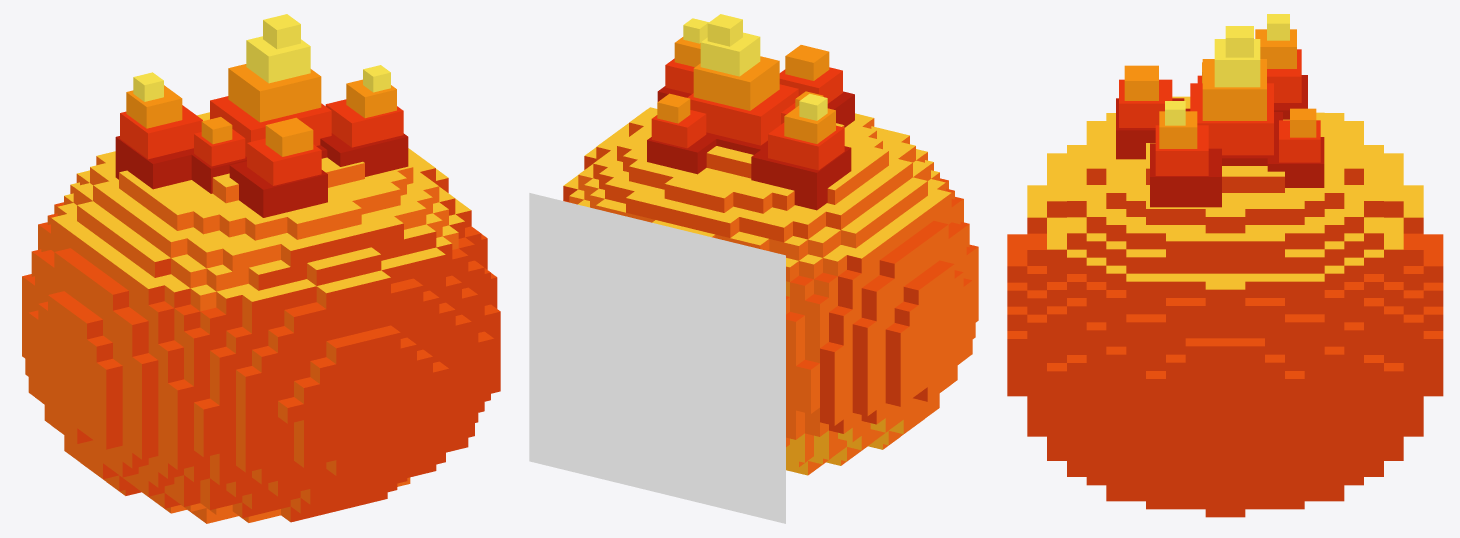
File: slime_pyro_large.glb
3 renders of one model, left to right at view 1: azimuth 30°, elevation 25°; view 2: azimuth 150°, elevation 25°; view 3: azimuth 270°, elevation 25°, orthographic. The views are drawn at different scales.
Visible parts, largest first — view 1: Shell, PyroFlames; view 2: Face, Shell, PyroFlames; view 3: Shell, PyroFlames.
Part boxes in pixels (bbox=[...]): Shell: bbox=[22, 112, 500, 523]; PyroFlames: bbox=[115, 14, 408, 217]; Face: bbox=[529, 193, 785, 523]; Shell: bbox=[563, 107, 978, 475]; PyroFlames: bbox=[647, 14, 854, 210]; Shell: bbox=[1007, 96, 1443, 517]; PyroFlames: bbox=[1116, 14, 1324, 207].
Size of the model in its own units: 1.88 by 1.99 by 1.81.
